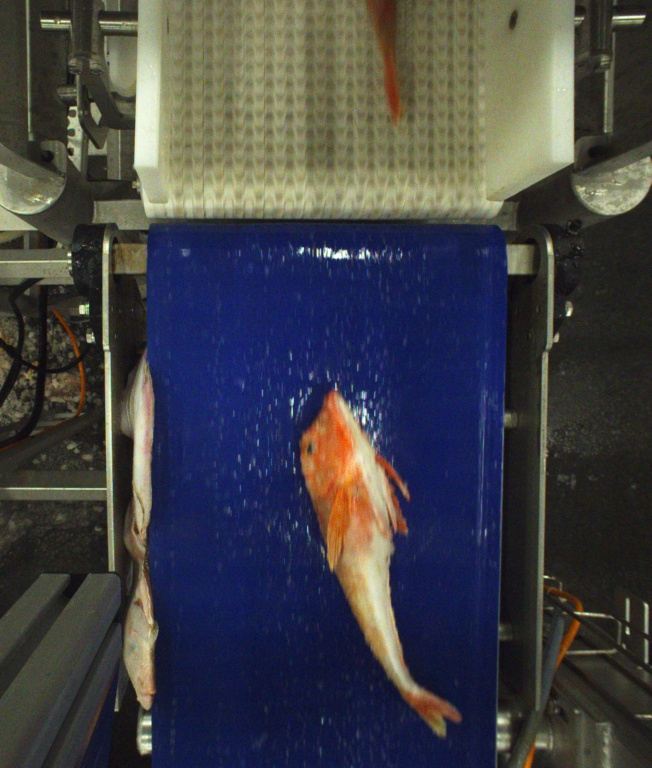GUU: (299, 391, 461, 739)
